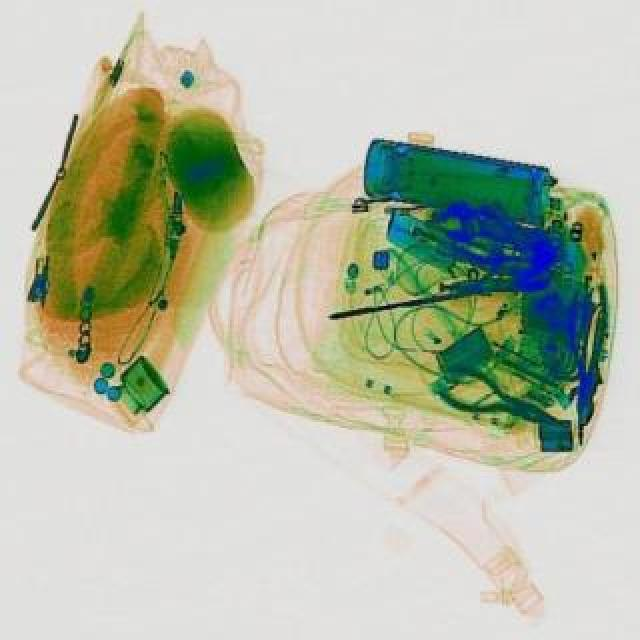wrench: (432, 358, 572, 440), (564, 282, 608, 426)
